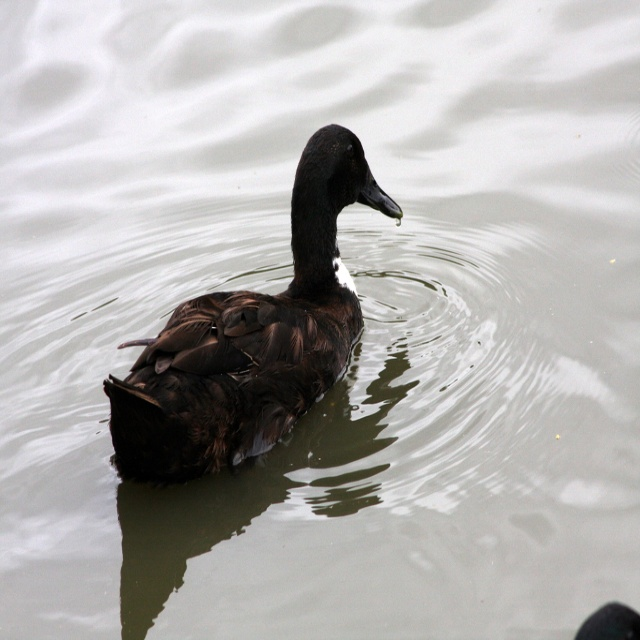Duck: (101, 124, 404, 483), (574, 602, 640, 639)
